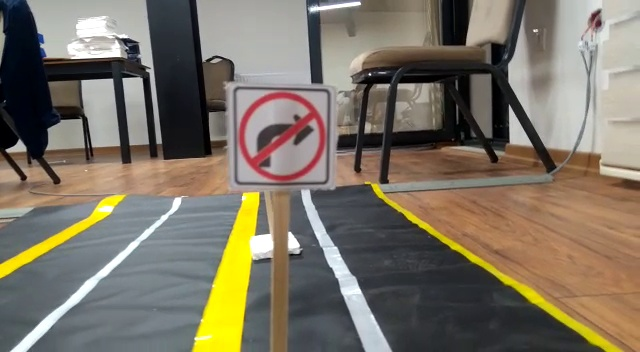saga_donulmez: (232, 85, 331, 183)
